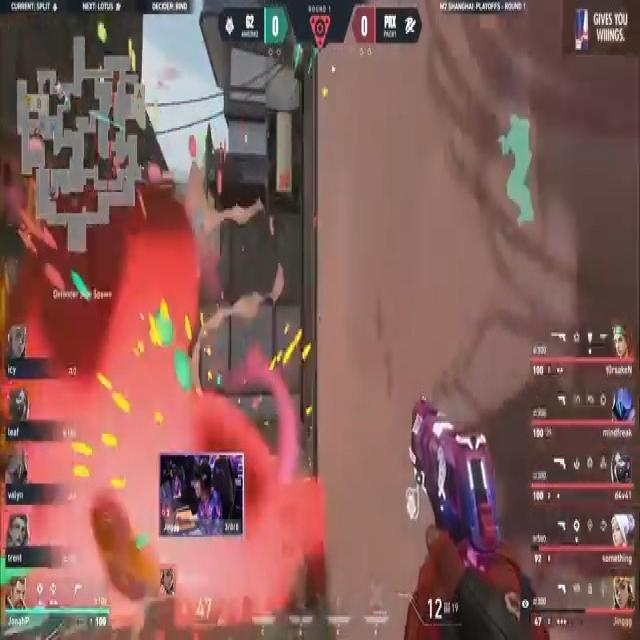ally behind wall: (494, 113, 540, 231)
